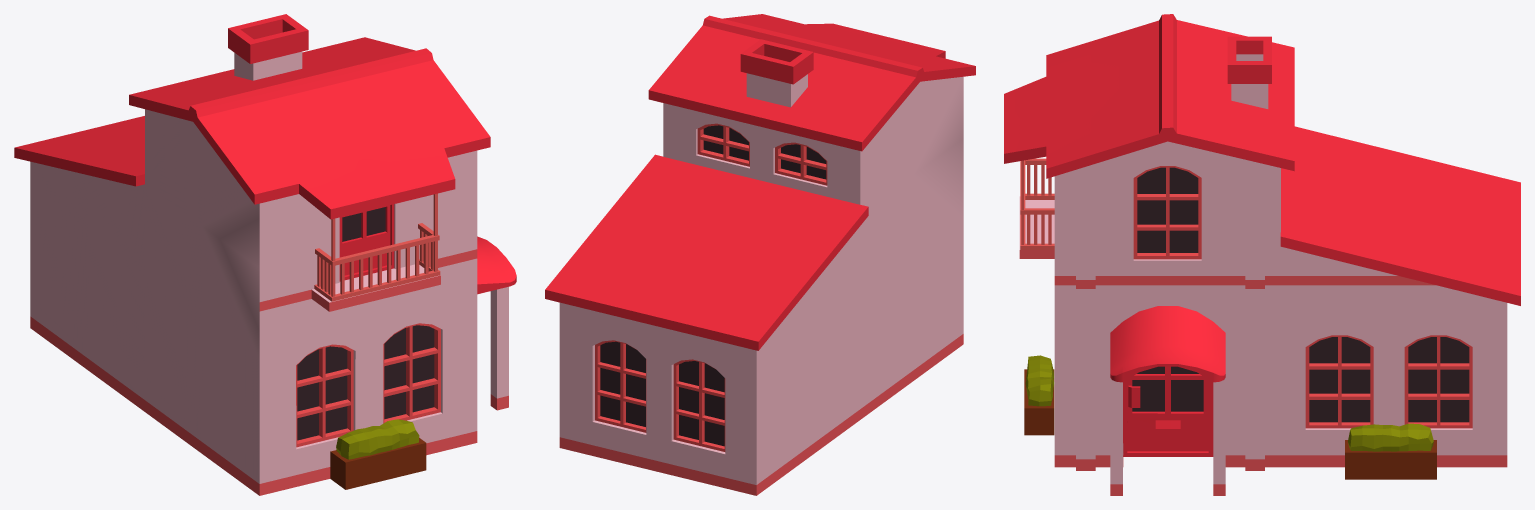
The model's file is PublicBuilding_6C.fbx.
The picture shows the model from 3 angles, left to right: view 1: azimuth 30°, elevation 25°; view 2: azimuth 150°, elevation 25°; view 3: azimuth 270°, elevation 25°; orthographic projection. The views are drawn at different scales.
Visible parts, largest first — view 1: PublicBuilding_6; view 2: PublicBuilding_6; view 3: PublicBuilding_6.
Part boxes in pixels (x1,y1,x2,y2): PublicBuilding_6: (14,14,516,495); PublicBuilding_6: (545,14,975,495); PublicBuilding_6: (1004,14,1520,495).
Size of what is drawn, in the model's own units: 274 by 323 by 416.
